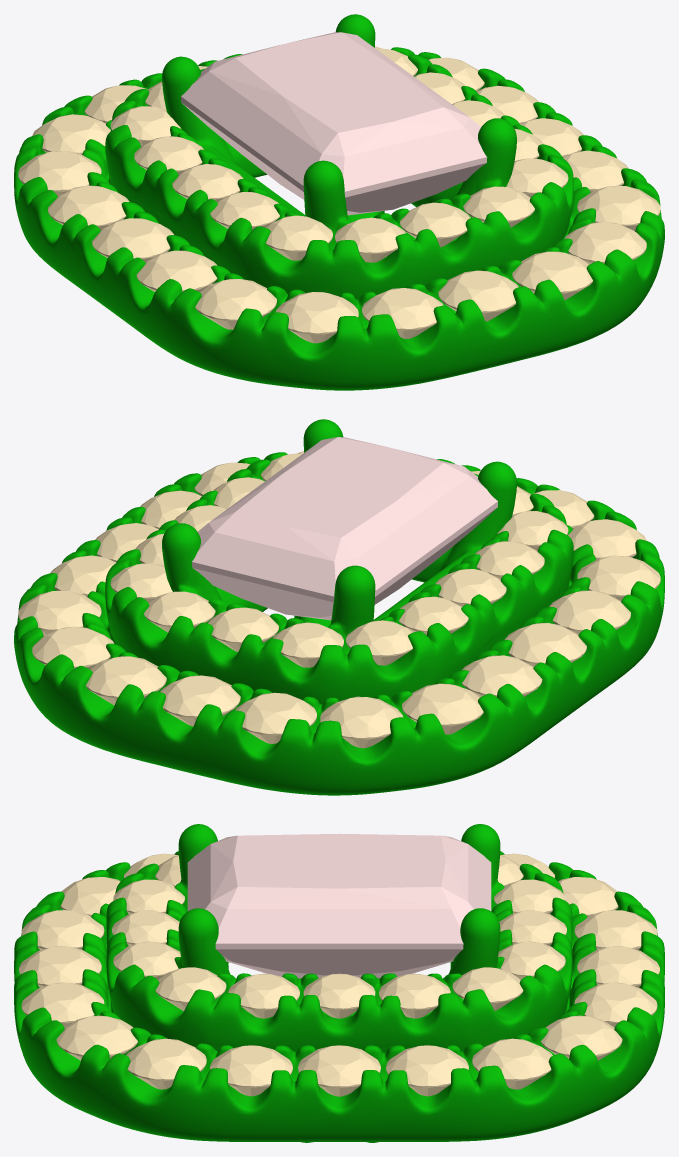
The picture shows the model from 3 angles, top to bottom: view 1: azimuth 30°, elevation 25°; view 2: azimuth 150°, elevation 25°; view 3: azimuth 270°, elevation 25°; orthographic projection.
Visible parts, largest first — view 1: Metal01, Diamond_Radiant, Diamond_Round.022, Diamond_Round.023, Diamond_Round.020, Diamond_Round.021, Diamond_Round.019, Diamond_Round.025, Diamond_Round.024, Diamond_Round.026, Diamond_Round.018, Diamond_Round.017 (+19 smaller); view 2: Metal01, Diamond_Radiant, Diamond_Round.028, Diamond_Round.027, Diamond_Round.030, Diamond_Round.029, Diamond_Round.031, Diamond_Round.025, Diamond_Round.026, Diamond_Round.024, Diamond_Round.032, Diamond_Round.023 (+19 smaller); view 3: Metal01, Diamond_Radiant, Diamond_Round.035, Diamond_Round.033, Diamond_Round.017, Diamond_Round.034, Diamond_Round.016, Diamond_Round.018, Diamond_Round.032, Diamond_Round.031, Diamond_Round.019, Diamond_Round.020 (+18 smaller).
Boxes of the visible parts, <box> form: Metal01: <box>14,14,664,390</box>; Diamond_Radiant: <box>181,32,487,215</box>; Diamond_Round.022: <box>276,292,358,343</box>; Diamond_Round.023: <box>195,279,276,329</box>; Diamond_Round.020: <box>438,270,518,321</box>; Diamond_Round.021: <box>362,288,443,338</box>; Diamond_Round.019: <box>512,251,592,300</box>; Diamond_Round.025: <box>92,218,173,261</box>; Diamond_Round.024: <box>136,250,217,291</box>; Diamond_Round.026: <box>48,185,129,229</box>; Diamond_Round.018: <box>564,221,646,264</box>; Diamond_Round.017: <box>577,185,660,231</box>; Metal01: <box>14,419,664,795</box>; Diamond_Radiant: <box>192,437,497,620</box>; Diamond_Round.028: <box>320,696,402,748</box>; Diamond_Round.027: <box>402,683,483,734</box>; Diamond_Round.030: <box>160,675,240,726</box>; Diamond_Round.029: <box>235,692,316,743</box>; Diamond_Round.031: <box>86,656,166,705</box>; Diamond_Round.025: <box>505,623,586,666</box>; Diamond_Round.026: <box>462,655,542,697</box>; Diamond_Round.024: <box>549,590,630,634</box>; Diamond_Round.032: <box>32,626,114,669</box>; Diamond_Round.023: <box>577,555,660,600</box>; Metal01: <box>14,824,664,1142</box>; Diamond_Radiant: <box>187,833,491,978</box>; Diamond_Round.035: <box>298,1045,380,1096</box>; Diamond_Round.033: <box>472,1038,552,1089</box>; Diamond_Round.017: <box>126,1038,206,1089</box>; Diamond_Round.034: <box>386,1045,468,1096</box>; Diamond_Round.016: <box>210,1045,292,1096</box>; Diamond_Round.018: <box>56,1015,137,1060</box>; Diamond_Round.032: <box>541,1015,622,1060</box>; Diamond_Round.031: <box>574,982,657,1027</box>; Diamond_Round.019: <box>21,982,104,1027</box>; Diamond_Round.020: <box>19,946,101,987</box>.
Size of the model in its own units: 10.2 by 5.33 by 11.8.
